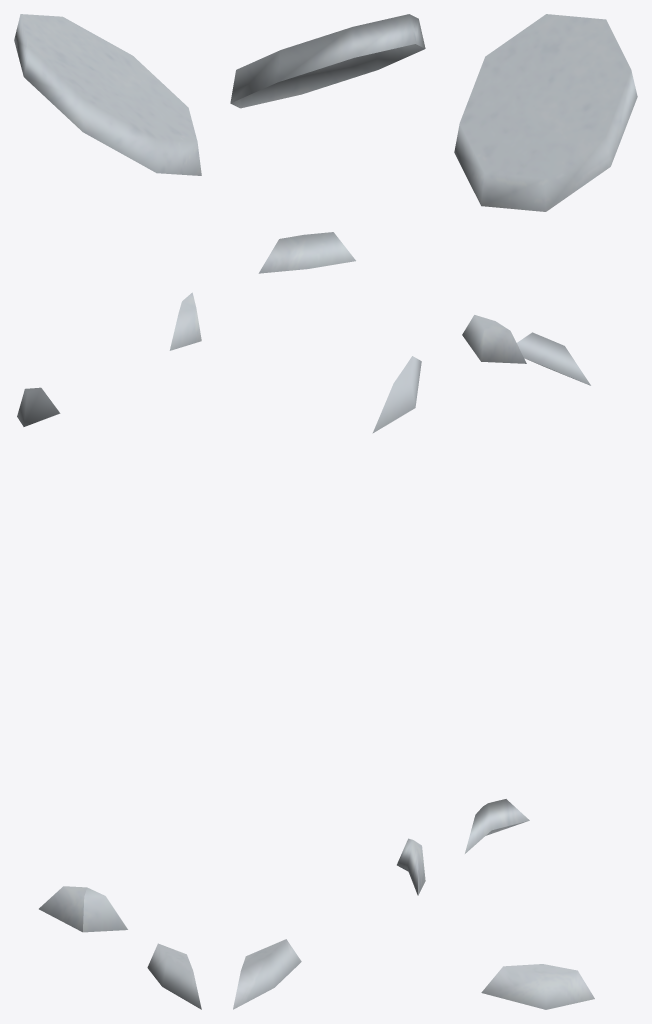
File: Pillar_5_Snow.fbx
3 renders of one model, left to right at view 1: azimuth 30°, elevation 25°; view 2: azimuth 150°, elevation 25°; view 3: azimuth 270°, elevation 25°, orthographic. The views are drawn at different scales.
Visible parts, largest first — view 1: Pillar_5_Snow; view 2: Pillar_5_Snow; view 3: Pillar_5_Snow.
Part boxes in pixels (x1,y1,x2,y2): Pillar_5_Snow: (14,14,201,1009); Pillar_5_Snow: (230,14,425,1009); Pillar_5_Snow: (454,14,637,1009).
Bounding box in the file's own units: 83.4 × 465 × 83.4.
